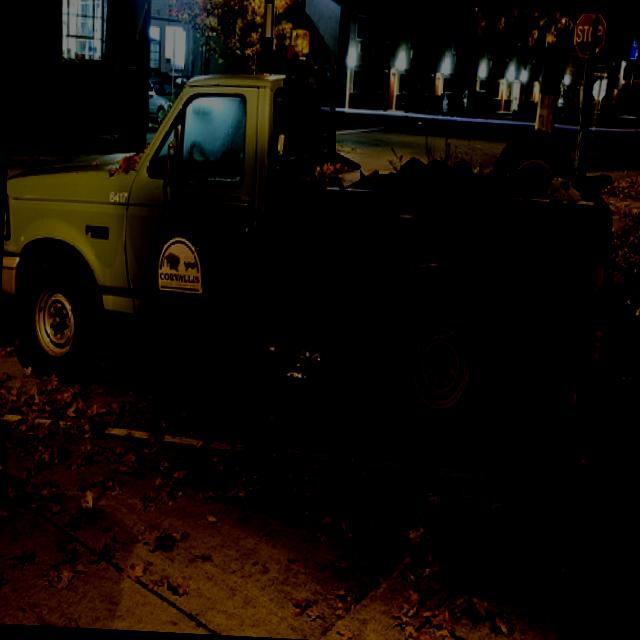Vehicle: (0, 30, 636, 450), (147, 78, 175, 124), (462, 90, 491, 121), (440, 91, 466, 118), (556, 98, 582, 120)
